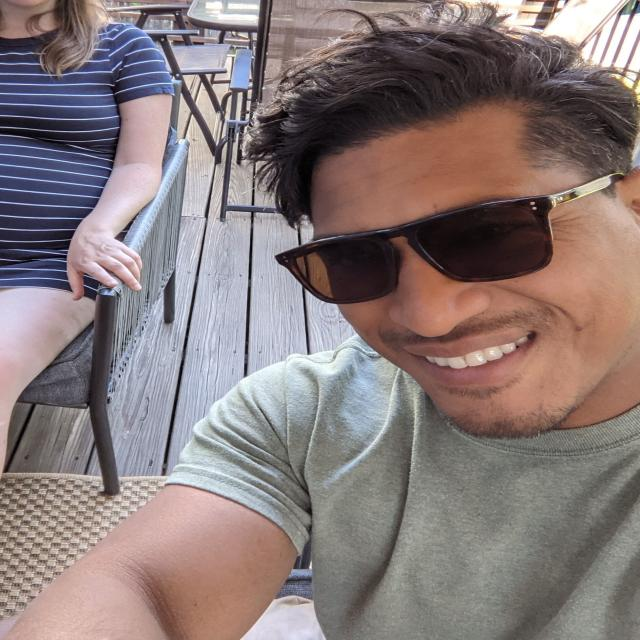2_gafas: (274, 169, 626, 305)
